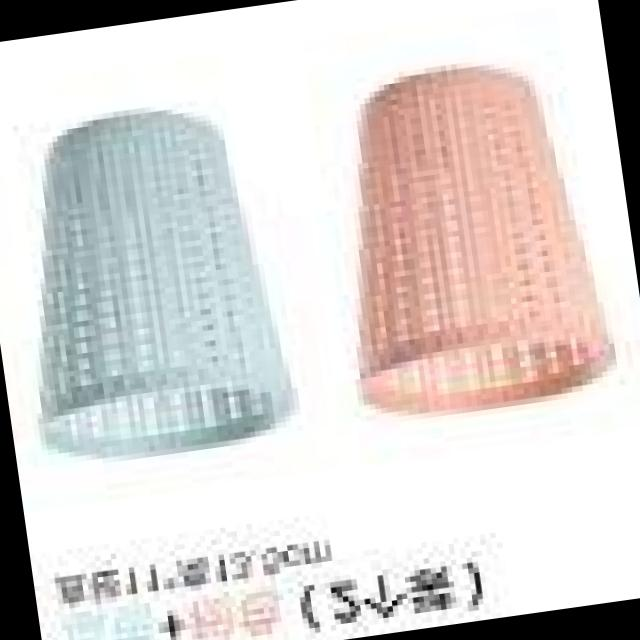dustbin: (306, 39, 634, 435), (0, 90, 311, 477)
